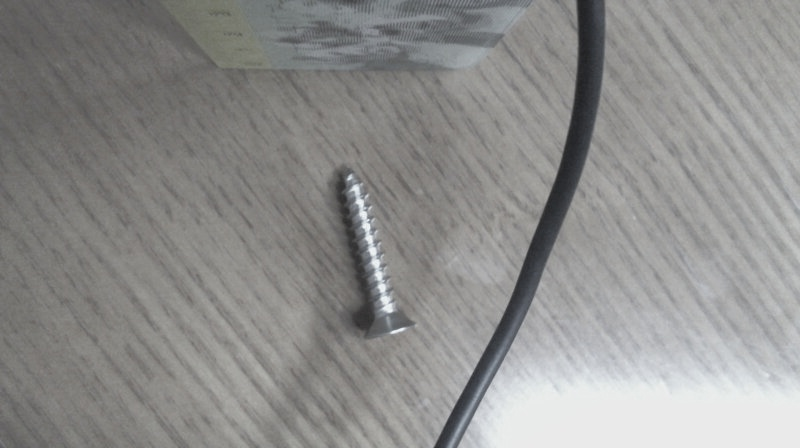S001: (332, 166, 419, 344)
